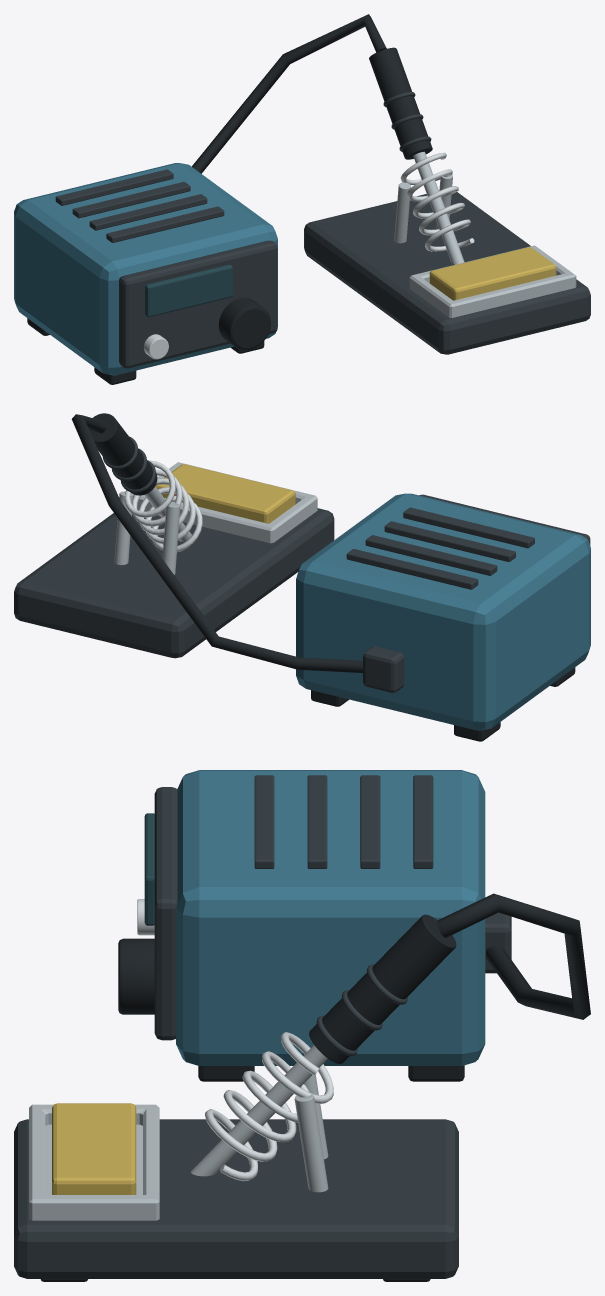
File: city-soldering-workstation.glb
The picture shows the model from 3 angles, top to bottom: view 1: azimuth 30°, elevation 25°; view 2: azimuth 150°, elevation 25°; view 3: azimuth 270°, elevation 25°; orthographic projection. The views are drawn at different scales.
Parts seen in each view (by area): view 1: Assembly | Dark instrument trim, Assembly | Muted blue instrument finish, Assembly | Dark cable and grip rubber, Assembly | Satin instrument metal, Assembly | Plain yellow sponge block, Assembly | Opaque inactive screen or lens, Assembly | Bright connector metal; view 2: Assembly | Muted blue instrument finish, Assembly | Dark instrument trim, Assembly | Dark cable and grip rubber, Assembly | Satin instrument metal, Assembly | Plain yellow sponge block, Assembly | Bright connector metal; view 3: Assembly | Muted blue instrument finish, Assembly | Dark instrument trim, Assembly | Dark cable and grip rubber, Assembly | Satin instrument metal, Assembly | Plain yellow sponge block, Assembly | Bright connector metal, Assembly | Opaque inactive screen or lens.
Part boxes in pixels (box(x1,y1,x2,y2)): Assembly | Dark instrument trim: box(55, 92, 590, 368); Assembly | Muted blue instrument finish: box(14, 163, 277, 375); Assembly | Dark cable and grip rubber: box(27, 14, 432, 384); Assembly | Satin instrument metal: box(394, 151, 576, 317); Assembly | Plain yellow sponge block: box(429, 247, 556, 300); Assembly | Opaque inactive screen or lens: box(145, 264, 232, 317); Assembly | Bright connector metal: box(143, 152, 474, 359); Assembly | Muted blue instrument finish: box(296, 493, 590, 730); Assembly | Dark instrument trim: box(14, 436, 590, 692); Assembly | Dark cable and grip rubber: box(71, 413, 575, 741); Assembly | Satin instrument metal: box(114, 462, 317, 574); Assembly | Plain yellow sponge block: box(155, 464, 295, 523); Assembly | Bright connector metal: box(124, 460, 202, 552); Assembly | Muted blue instrument finish: box(176, 770, 485, 1065); Assembly | Dark instrument trim: box(14, 775, 511, 1278); Assembly | Dark cable and grip rubber: box(40, 893, 590, 1281); Assembly | Satin instrument metal: box(29, 1045, 328, 1220); Assembly | Plain yellow sponge block: box(52, 1103, 136, 1194); Assembly | Bright connector metal: box(137, 899, 333, 1181); Assembly | Opaque inactive screen or lens: box(144, 813, 154, 925).
Bounding box in the file's own units: 0.477 × 0.2266 × 0.3489.
